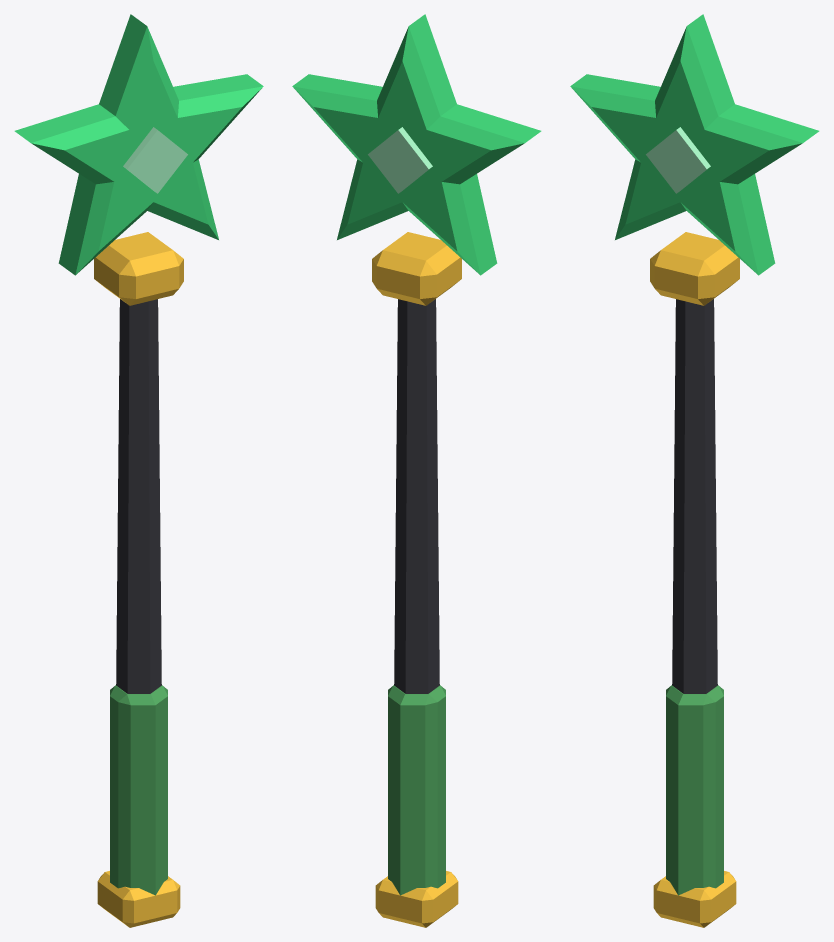
File: EmeraldWand.fbx
3 renders of one model, left to right at view 1: azimuth 30°, elevation 25°; view 2: azimuth 150°, elevation 25°; view 3: azimuth 330°, elevation 25°, orthographic.
Parts seen in each view (by area): view 1: EmeraldWand; view 2: EmeraldWand; view 3: EmeraldWand.
Part boxes in pixels (x1,y1,x2,y2): EmeraldWand: (14, 14, 263, 927); EmeraldWand: (292, 14, 541, 927); EmeraldWand: (570, 14, 819, 927).
Size of the model in its own units: 0.6467 by 2.37 by 0.18.
Materials: 1 (1 with a texture image).
